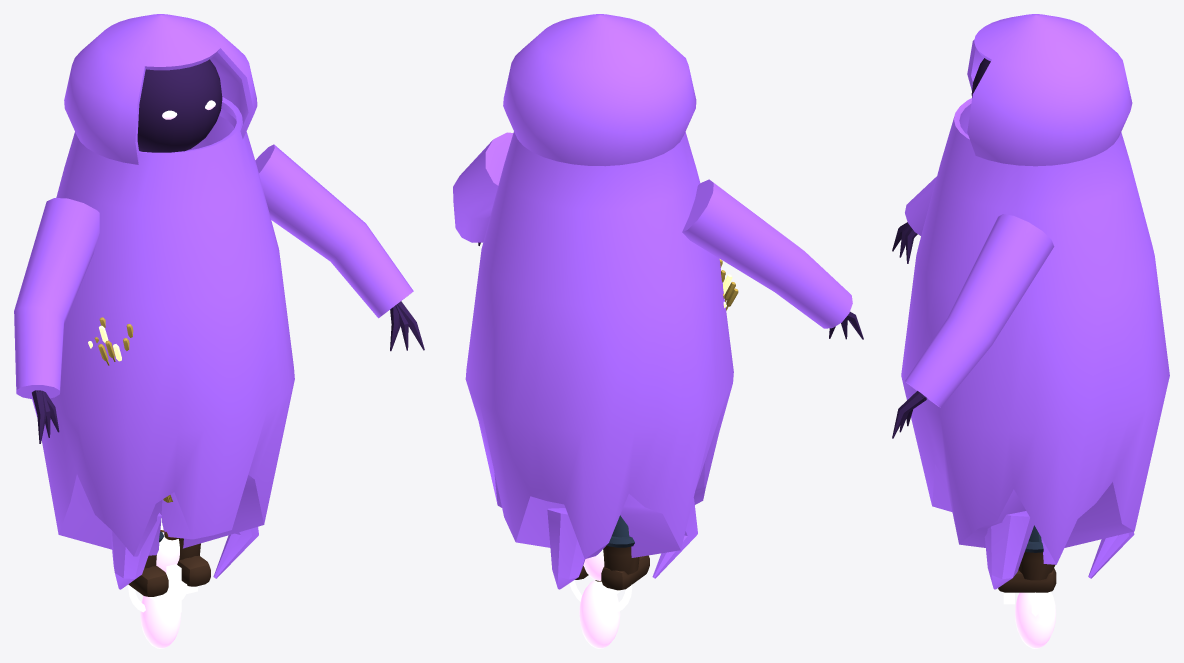
File: markov.glb
3 renders of one model, left to right at view 1: azimuth 30°, elevation 25°; view 2: azimuth 150°, elevation 25°; view 3: azimuth 270°, elevation 25°, orthographic.
Parts seen in each view (by area): view 1: phn_body, phn_core, mkv_body; view 2: phn_body, phn_core, mkv_body; view 3: phn_body, phn_core, mkv_body.
Boxes of the visible parts, x1,y1,x2,y2 form: phn_body: [14, 14, 424, 589]; phn_core: [128, 518, 197, 648]; mkv_body: [88, 317, 210, 596]; phn_body: [453, 14, 863, 589]; phn_core: [569, 549, 632, 648]; mkv_body: [575, 259, 738, 590]; phn_body: [892, 14, 1169, 589]; phn_core: [1003, 591, 1056, 648]; mkv_body: [998, 525, 1056, 592].
Bounding box in the file's own units: 2.42 × 3.71 × 1.48.
